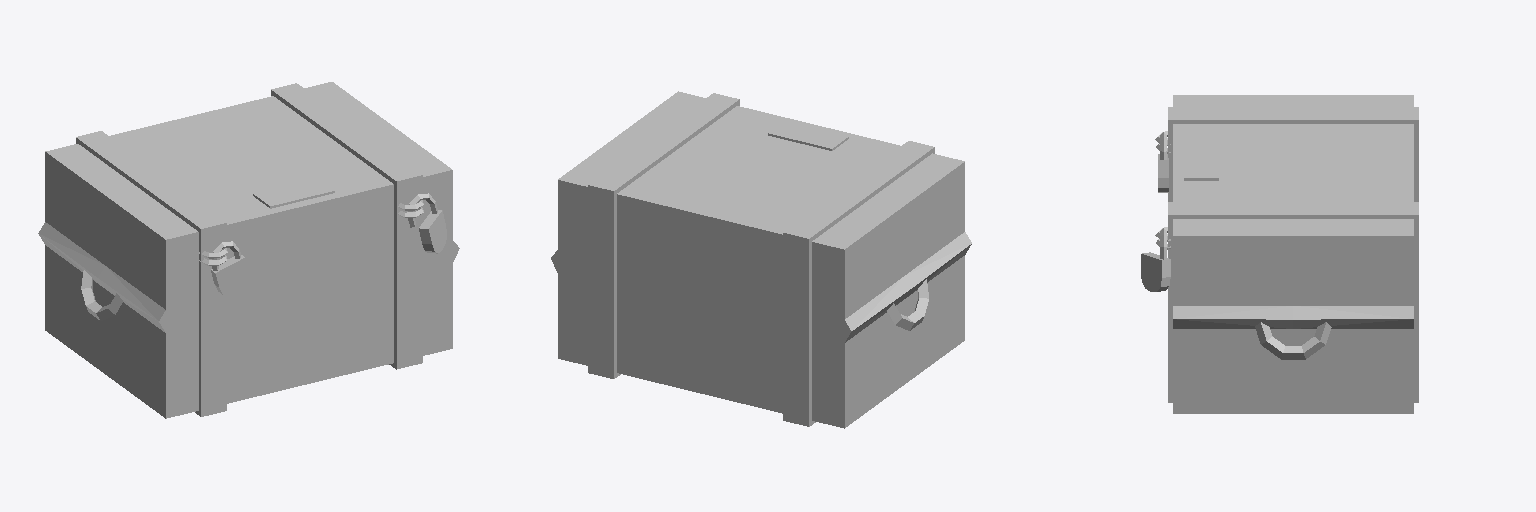
The model's file is crate_mesh.obj.
The picture shows the model from 3 angles: view 1: azimuth 30°, elevation 25°; view 2: azimuth 150°, elevation 25°; view 3: azimuth 270°, elevation 25°; orthographic projection.
Parts seen in each view (by area): view 1: crate_mesh; view 2: crate_mesh; view 3: crate_mesh.
Part boxes in pixels (bbox=[...]): crate_mesh: bbox=[38, 82, 459, 418]; crate_mesh: bbox=[551, 91, 971, 428]; crate_mesh: bbox=[1141, 95, 1418, 413].
Bounding box in the file's own units: 0.7134 × 0.4092 × 0.5432.